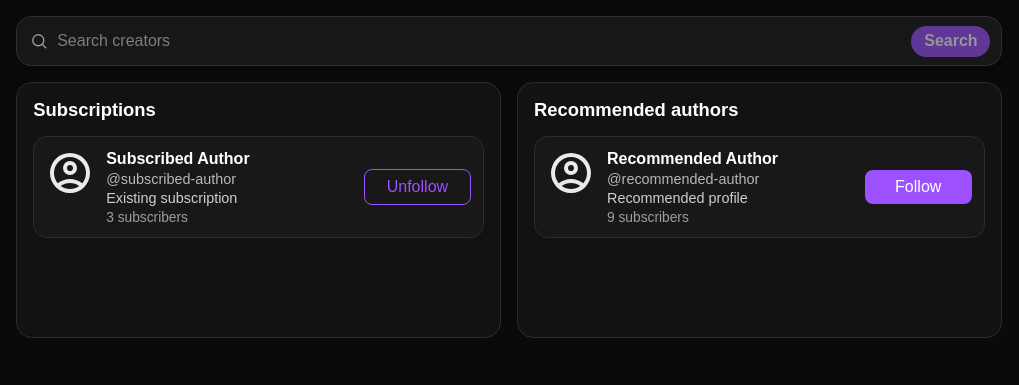
Test: renders two columns and moves author from recommendations to subscriptions after follow
Expected: the heading "Subscriptions" is shown, x1=33 y1=99 x2=156 y2=120
Expected: the heading "Recommended authors" is shown, x1=534 y1=99 x2=738 y2=120
What coordinates should you click on to do the following:
click the button "Follow"
I would click on:
 (918, 187)
Its box is x1=865 y1=170 x2=972 y2=204.
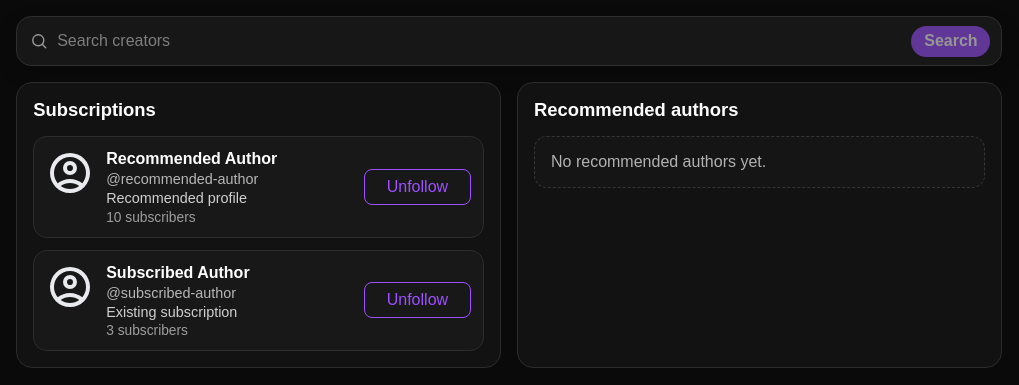
Expected: the text "Recommended Author" is shown, x1=106 y1=149 x2=277 y2=168
Expected: the text "No recommended authors yet." is shown, x1=534 y1=136 x2=985 y2=188
